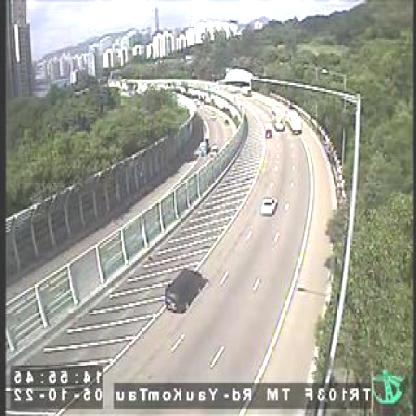Car: (166, 267, 210, 314), (262, 196, 278, 213), (266, 128, 274, 139)
Truck: (289, 107, 303, 130)
